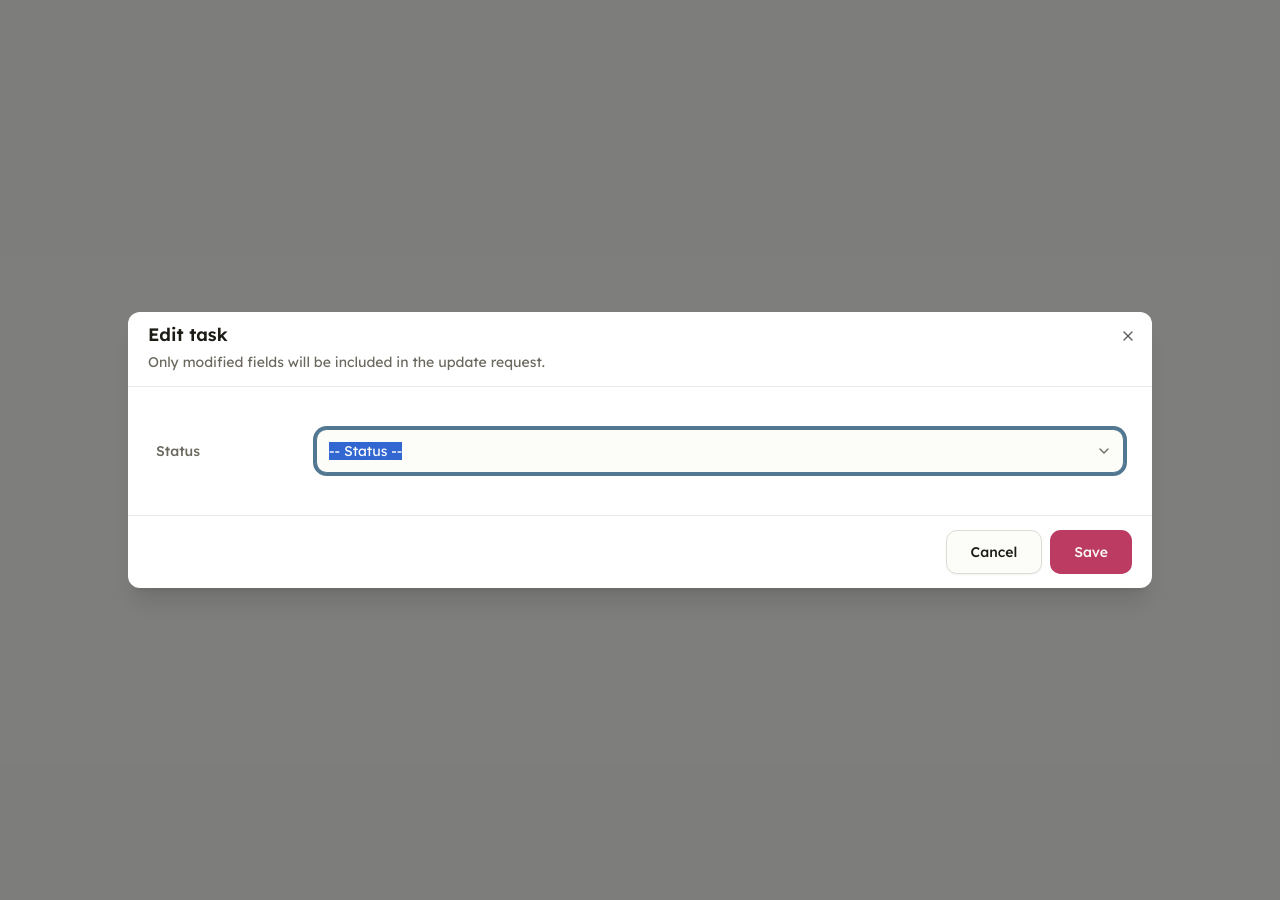
PatchRecordDialog select fields › still takes a static option list for a genuinely finite choice
Click the dropdown: click(720, 451) [316, 429, 1124, 473]
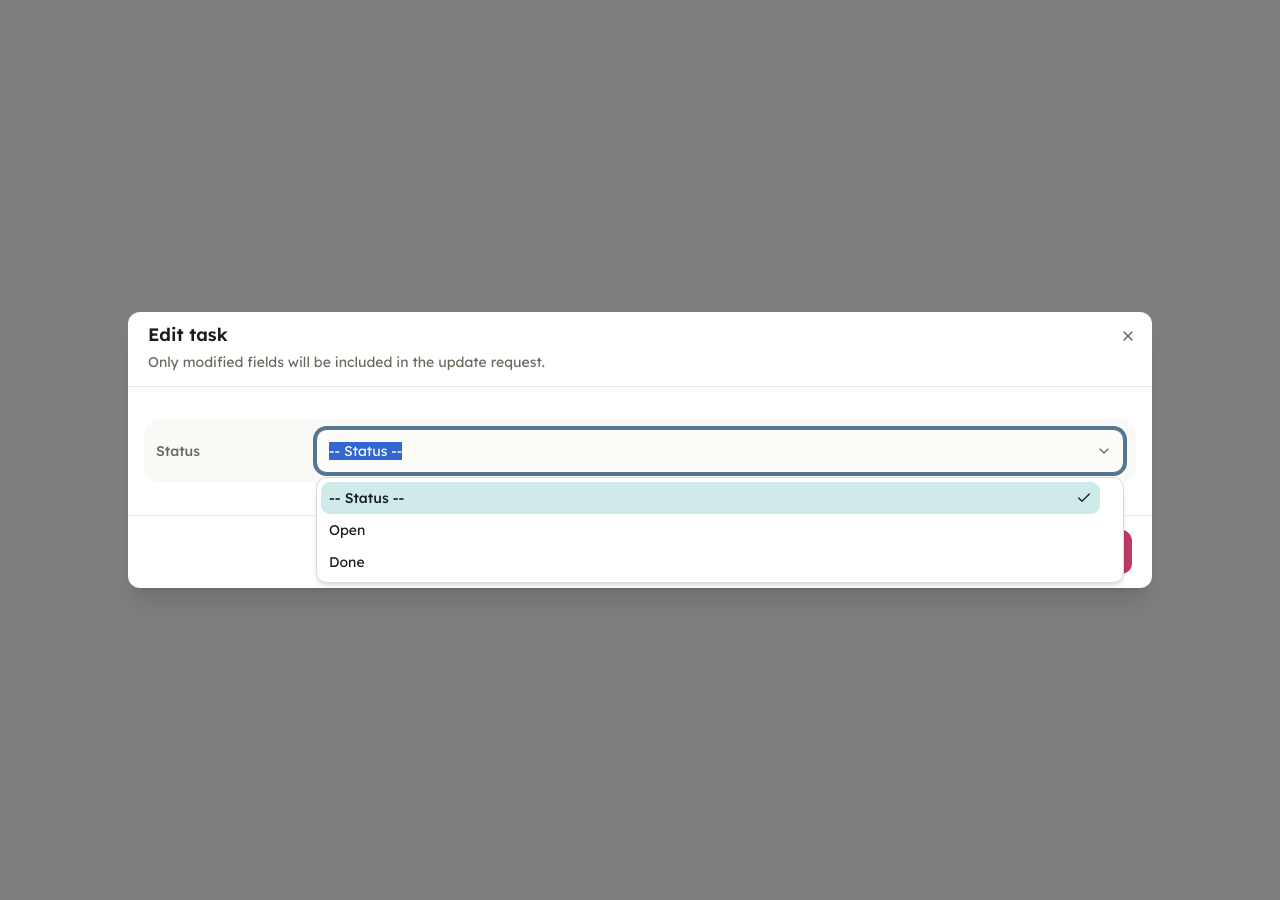
Now the number of options "Open" is 1, box [321, 514, 1100, 546]
Now the option "Done" is shown, box [321, 546, 1100, 578]
